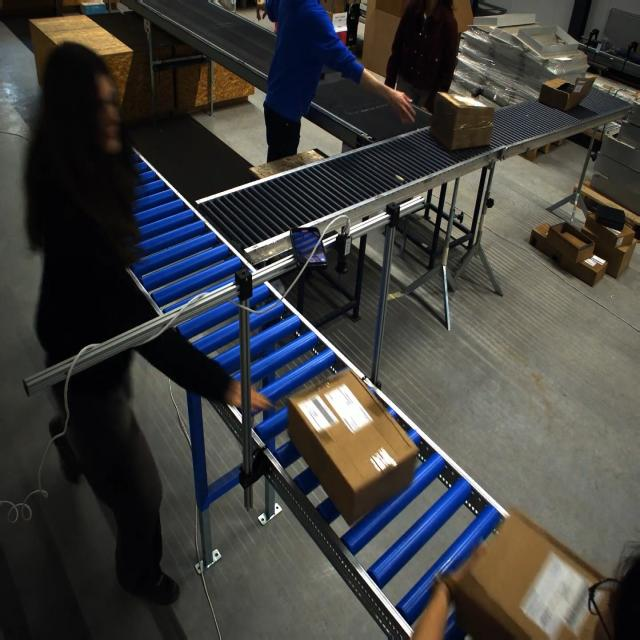box: (441, 506, 615, 637), (295, 375, 411, 523), (430, 90, 495, 151)
